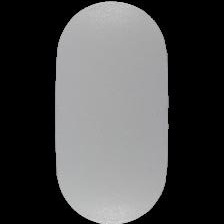63629-2910: (0, 0, 224, 224)
